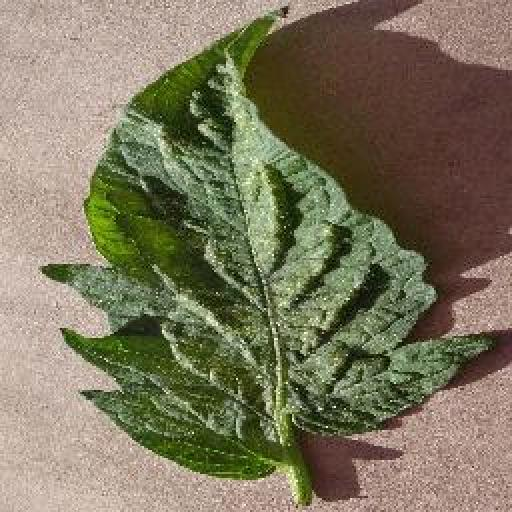disease_tomato: (44, 6, 494, 484)
